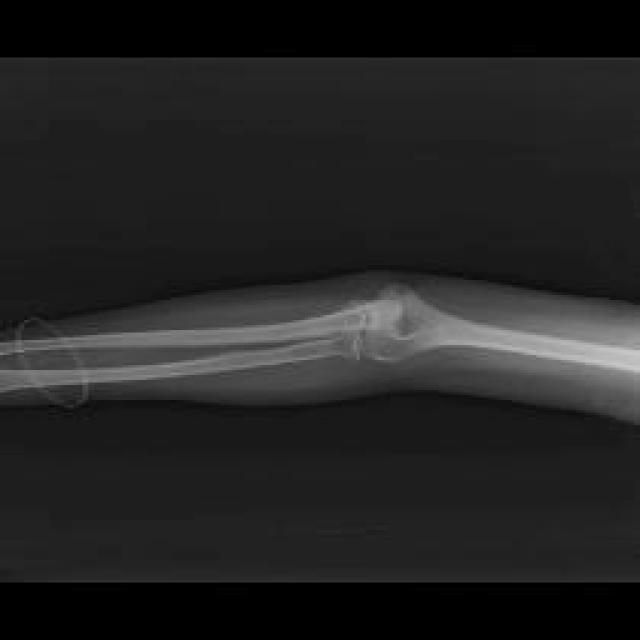normal: (0, 289, 637, 392)
